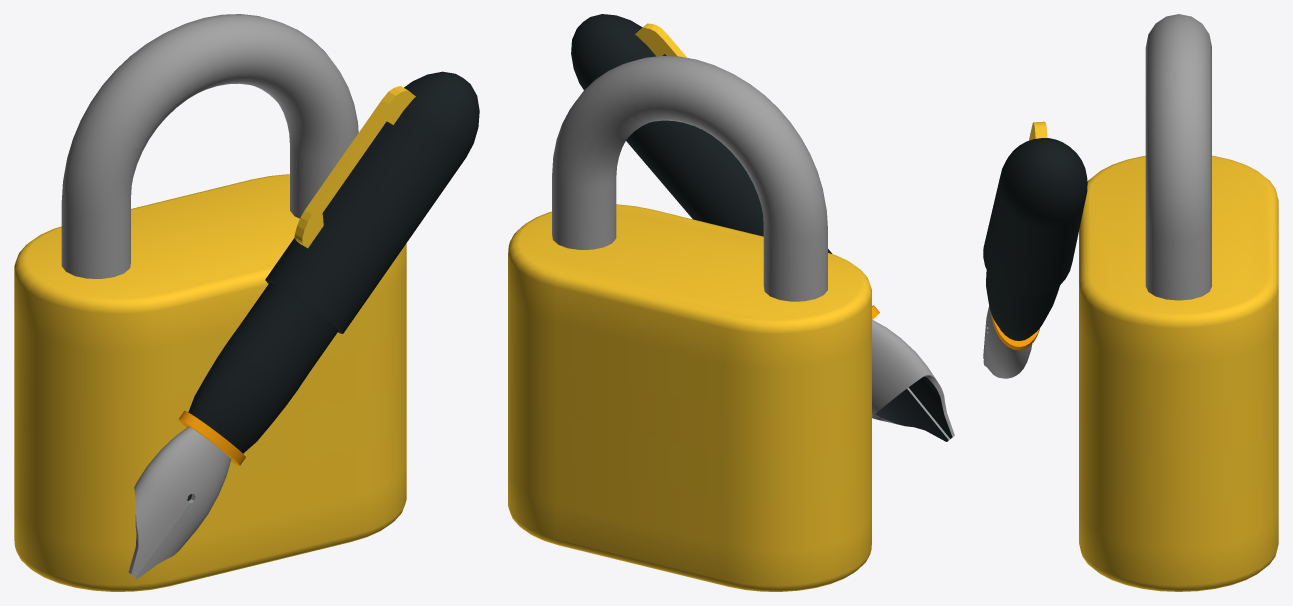
Rendered from locked_with_pen.gltf.
3 views of the same model, side by side, from view 1: azimuth 30°, elevation 25°; view 2: azimuth 150°, elevation 25°; view 3: azimuth 270°, elevation 25° (orthographic). The views are drawn at different scales.
Parts seen in each view (by area): view 1: Circle.2579, Cylinder.510, Cylinder.511; view 2: Circle.2579, Cylinder.510, Cylinder.511; view 3: Circle.2579, Cylinder.510.
Boxes of the visible parts, x1,y1,x2,y2 form: Circle.2579: (14,14,406,591); Cylinder.510: (128,71,479,578); Cylinder.511: (294,86,415,248); Circle.2579: (508,56,871,591); Cylinder.510: (571,14,954,441); Cylinder.511: (635,23,687,57); Circle.2579: (1079,14,1278,591); Cylinder.510: (983,138,1087,378).
Bounding box in the file's own units: 1.65 × 2.17 × 1.18.
Materials: 1 (1 with a texture image).
